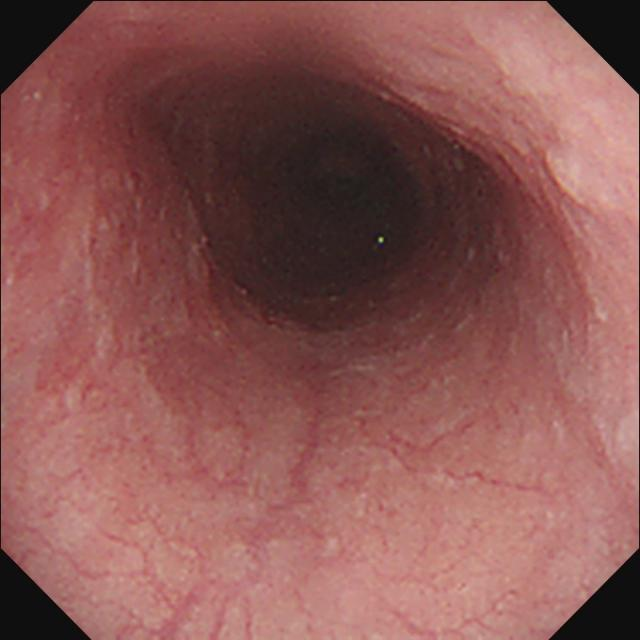E: (211, 97, 431, 326)
